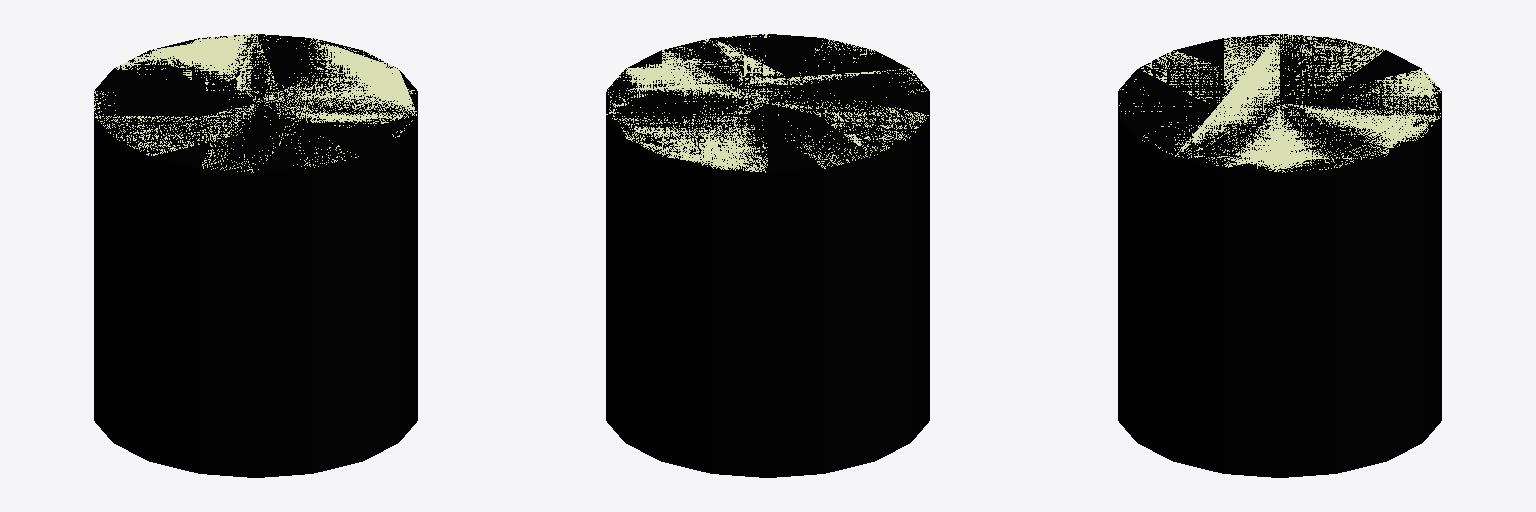
Rendered from Microwave.obj.
3 renders of one model, left to right at view 1: azimuth 30°, elevation 25°; view 2: azimuth 150°, elevation 25°; view 3: azimuth 270°, elevation 25°, orthographic.
Parts seen in each view (by area): view 1: Cylinder005, Box20216, Box20200; view 2: Cylinder005, Box20216, Box20200; view 3: Cylinder005, Box20216, Box20200.
Boxes of the visible parts, box(x1,y1,x2,y2) form: Cylinder005: box(94, 34, 417, 477); Box20216: box(94, 34, 416, 172); Box20200: box(201, 91, 417, 172); Cylinder005: box(606, 34, 929, 477); Box20216: box(606, 34, 928, 172); Box20200: box(665, 34, 928, 102); Cylinder005: box(1118, 34, 1441, 477); Box20216: box(1119, 34, 1440, 172); Box20200: box(1118, 50, 1279, 168).
Bounding box in the file's own units: 191 × 196 × 188.